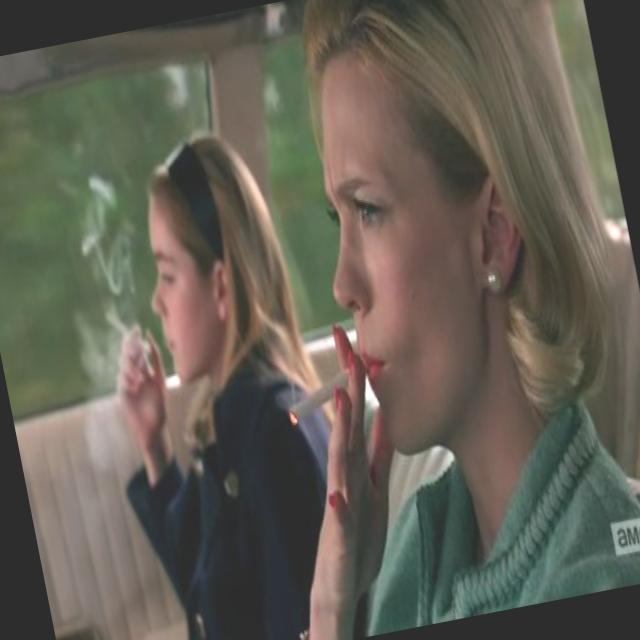cigarette: (282, 357, 374, 425)
